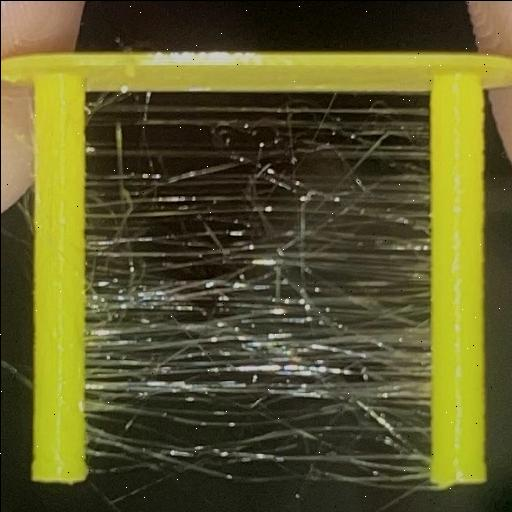stringing: (240, 104, 425, 218), (88, 355, 258, 477), (84, 220, 236, 352), (266, 216, 418, 346), (272, 348, 428, 474), (89, 98, 227, 222)
